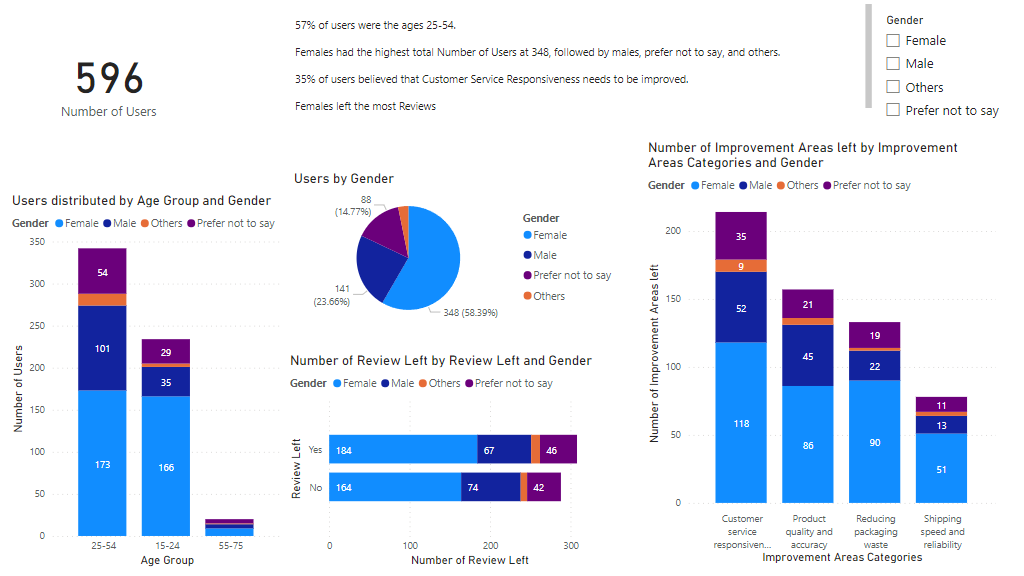

This screenshot's page, from the dashboard's own definition file:
{"tool":"powerbi","page":{"name":"Multiple Page _ Gender","canvas":[1280,720],"ordinal":0},"visuals":[{"type":"columnChart","title":"Users distributed by Age Group and Gender","fields":{"Category":["updated_data.age_group"],"Y":["updated_data.Measure 4"],"Series":["updated_data.Gender"]},"box":[9.8,240.2,347.1,473],"z":0},{"type":"barChart","fields":{"Category":["updated_data.Review_Left"],"Series":["updated_data.Gender"],"Y":["CountNonNull(updated_data.Review_Left)"]},"box":[357.3,440,421.3,273.3],"z":1000},{"type":"columnChart","fields":{"Series":["updated_data.Gender"],"Category":["updated_data.Improvement_Areas"],"Y":["CountNonNull(updated_data.Improvement_Areas)"]},"box":[804.7,173.3,445.3,534.7],"z":2000},{"type":"pieChart","title":"Users by Gender","fields":{"Category":["updated_data.Gender"],"Y":["CountNonNull(updated_data.Gender)"]},"box":[362.7,212,416,200.7],"z":3000},{"type":"slicer","fields":{"Values":["updated_data.Gender"]},"box":[1094.7,12.7,169.3,144.7],"z":4000},{"type":"card","fields":{"Values":["CountNonNull(updated_data.count)"]},"box":[26.7,0,219.3,200.7],"z":5000},{"type":"textbox","box":[363.3,0,731.3,173.3],"z":6000}]}

Visuals, with their boxes in screenshot pixels (x1, y1, x2, y2), scaled from the page's 1280x720 canvas onto the 1024x576 screenshot:
"Users distributed by Age Group and Gender" columnChart: [x1=8, y1=192, x2=286, y2=571]
barChart - updated_data.Review_Left x updated_data.Gender: [x1=286, y1=352, x2=623, y2=571]
columnChart - updated_data.Gender x updated_data.Improvement_Areas: [x1=644, y1=139, x2=1000, y2=566]
"Users by Gender" pieChart: [x1=290, y1=170, x2=623, y2=330]
slicer - updated_data.Gender: [x1=876, y1=10, x2=1011, y2=126]
card - CountNonNull(updated_data.count): [x1=21, y1=0, x2=197, y2=161]
textbox: [x1=291, y1=0, x2=876, y2=139]
